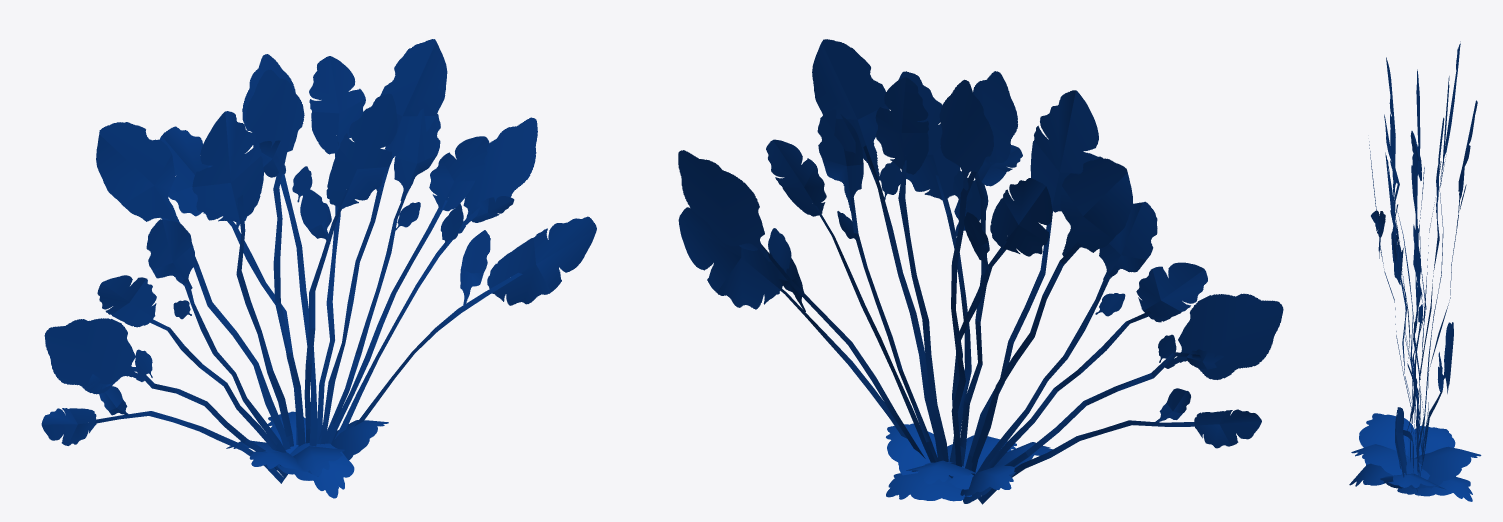
Rendered from SM_Paraventleaf.fbx.
3 renders of one model, left to right at view 1: azimuth 30°, elevation 25°; view 2: azimuth 150°, elevation 25°; view 3: azimuth 270°, elevation 25°, orthographic. The views are drawn at different scales.
Parts seen in each view (by area): view 1: Plane368; view 2: Plane368; view 3: Plane368.
Boxes of the visible parts, x1=… form: Plane368: x1=41, y1=39, x2=596, y2=498; Plane368: x1=678, y1=39, x2=1283, y2=504; Plane368: x1=1349, y1=41, x2=1481, y2=501.
Size of the model in its own units: 291 by 197 by 61.
